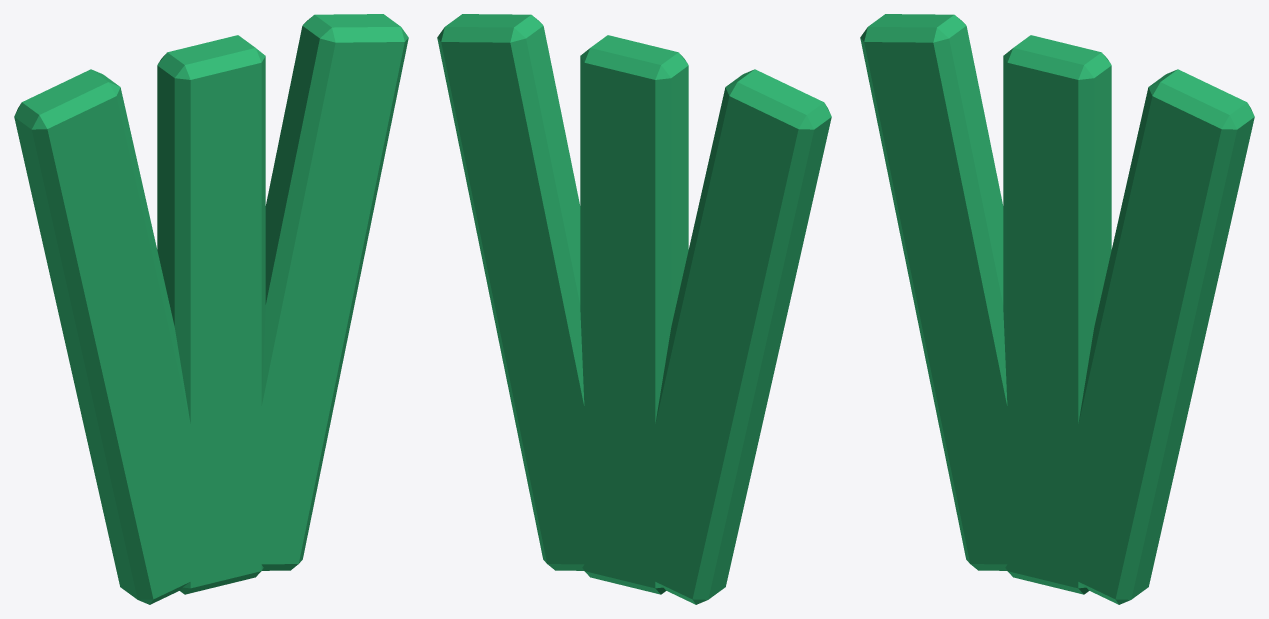
Rendered from Item_Kelp_v001.fbx.
The picture shows the model from 3 angles, left to right: view 1: azimuth 30°, elevation 25°; view 2: azimuth 150°, elevation 25°; view 3: azimuth 330°, elevation 25°; orthographic projection.
Visible parts, largest first — view 1: Kelp.002, Kelp, Kelp.001; view 2: Kelp.002, Kelp, Kelp.001; view 3: Kelp, Kelp.001, Kelp.002.
Boxes of the visible parts, x1,y1,x2,y2 form: Kelp.002: (14, 69, 222, 604); Kelp: (236, 14, 408, 570); Kelp.001: (157, 35, 265, 594); Kelp.002: (624, 69, 831, 604); Kelp: (437, 14, 615, 570); Kelp.001: (580, 35, 688, 594); Kelp: (1047, 69, 1254, 604); Kelp.001: (1003, 35, 1111, 594); Kelp.002: (860, 14, 1007, 570).
Size of the model in its own units: 13.04 by 17.61 by 1.75.
